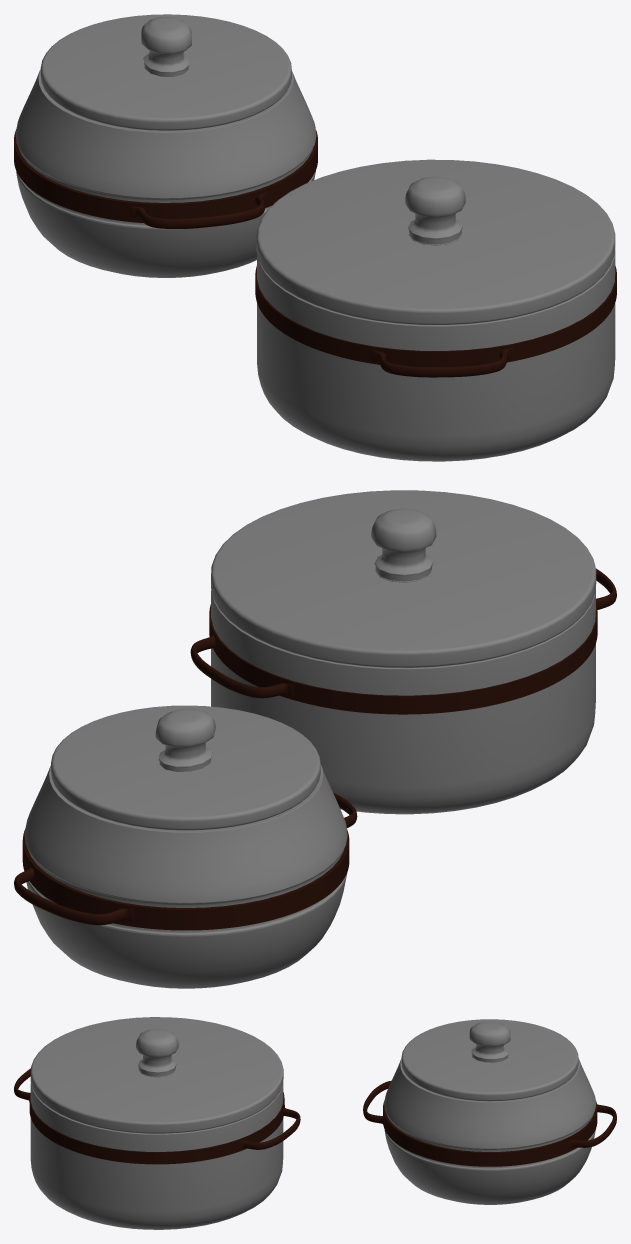
The model's file is CB_Asset_05.FBX.
3 renders of one model, top to bottom at view 1: azimuth 30°, elevation 25°; view 2: azimuth 150°, elevation 25°; view 3: azimuth 270°, elevation 25°, orthographic. The views are drawn at different scales.
Parts seen in each view (by area): view 1: C_Cups_00, C_Cups_01; view 2: C_Cups_00, C_Cups_01; view 3: C_Cups_00, C_Cups_01.
Boxes of the visible parts, <box> form: C_Cups_00: <box>255,159,616,461</box>; C_Cups_01: <box>14,14,317,277</box>; C_Cups_00: <box>190,490,616,814</box>; C_Cups_01: <box>14,705,357,988</box>; C_Cups_00: <box>14,1017,300,1229</box>; C_Cups_01: <box>363,1019,616,1204</box>.
Bounding box in the file's own units: 0.1901 × 0.1208 × 0.4373.
